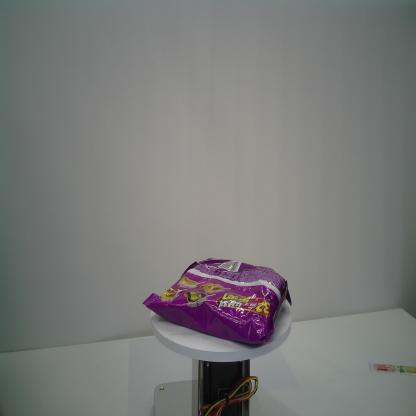Instant Noodles: (142, 258, 292, 346)
